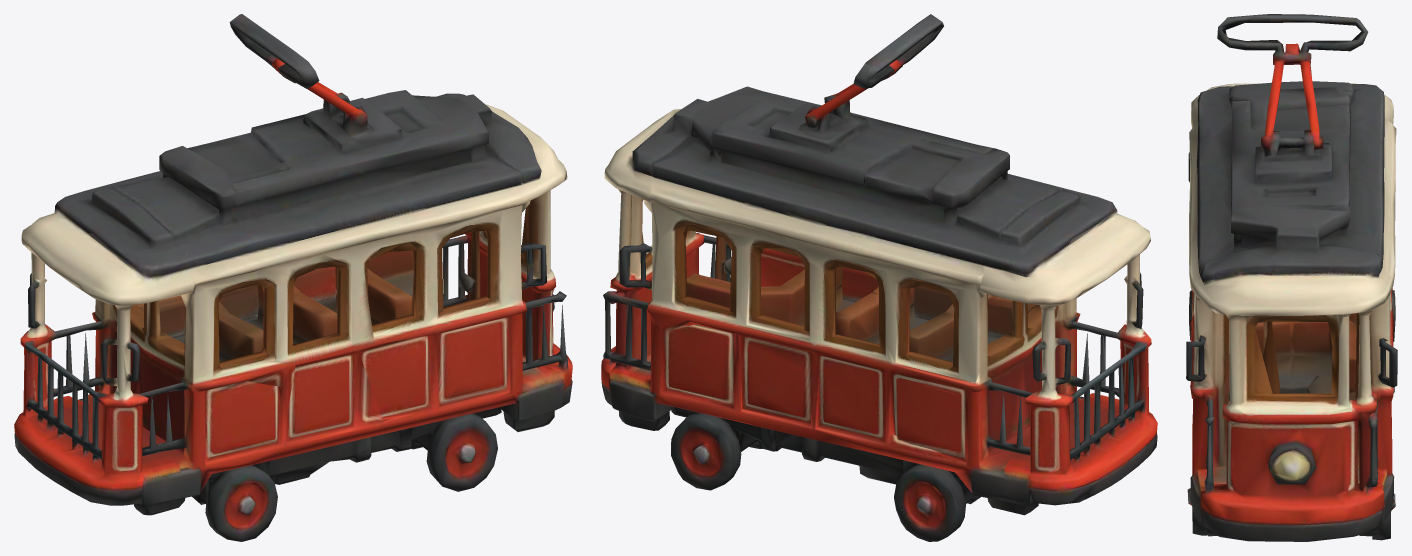
The model's file is m_tramvay.glb.
The picture shows the model from 3 angles, left to right: view 1: azimuth 30°, elevation 25°; view 2: azimuth 150°, elevation 25°; view 3: azimuth 270°, elevation 25°; orthographic projection.
Parts seen in each view (by area): view 1: tripo_node_6789fe7b-f297-4ac4-b616-15d66f4d3f7b; view 2: tripo_node_6789fe7b-f297-4ac4-b616-15d66f4d3f7b; view 3: tripo_node_6789fe7b-f297-4ac4-b616-15d66f4d3f7b.
Part boxes in pixels (x1=…): tripo_node_6789fe7b-f297-4ac4-b616-15d66f4d3f7b: x1=14, y1=14, x2=572, y2=541; tripo_node_6789fe7b-f297-4ac4-b616-15d66f4d3f7b: x1=601, y1=14, x2=1157, y2=541; tripo_node_6789fe7b-f297-4ac4-b616-15d66f4d3f7b: x1=1186, y1=14, x2=1397, y2=541.
Bounding box in the file's own units: 0.9802 × 0.8412 × 0.3597.
1 material, 1 textured.
